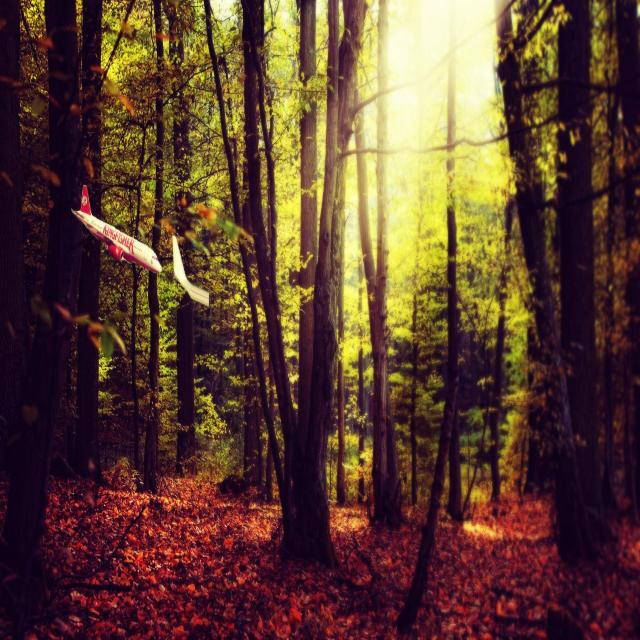airplane: (70, 184, 162, 274), (172, 234, 210, 307)
